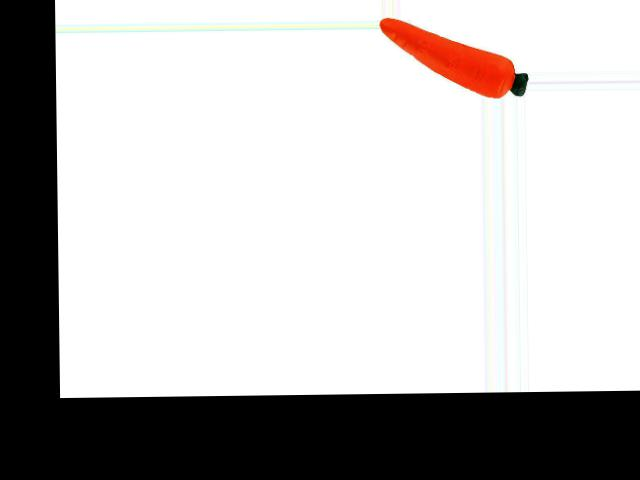carrot: (379, 14, 515, 98)
